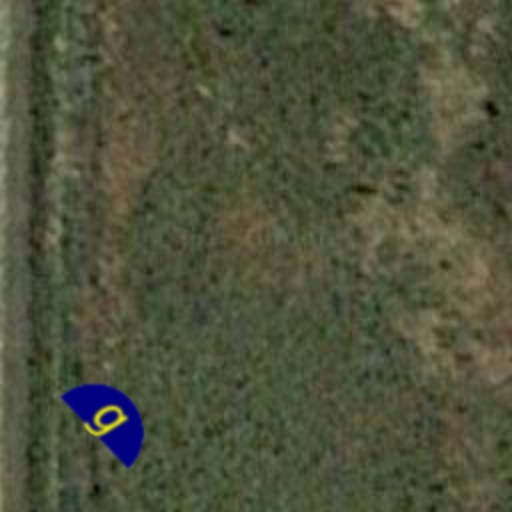semicircle: (40, 344, 184, 488)
